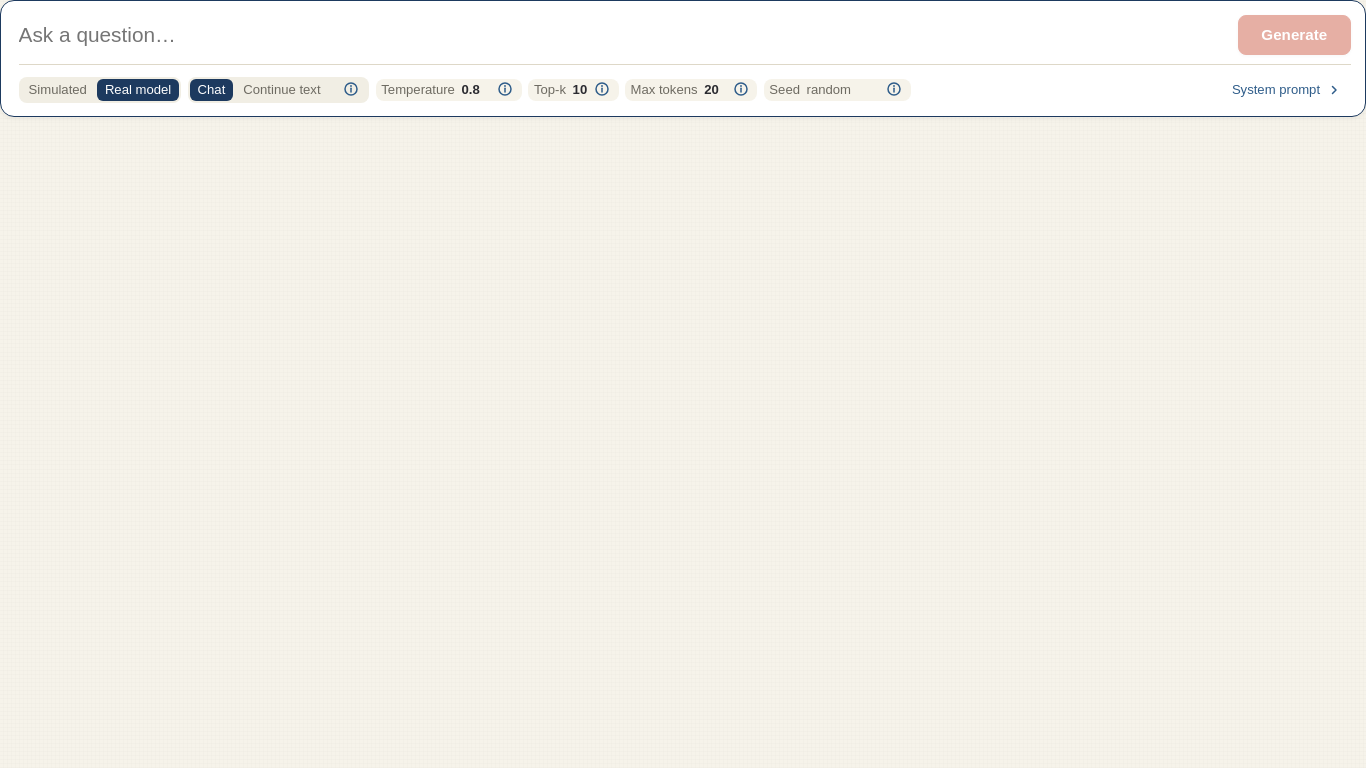
the format switch and the system line exist only with the real model
Click the button with test id "toggle-system" at (1287, 90), box [1224,74,1351,106]
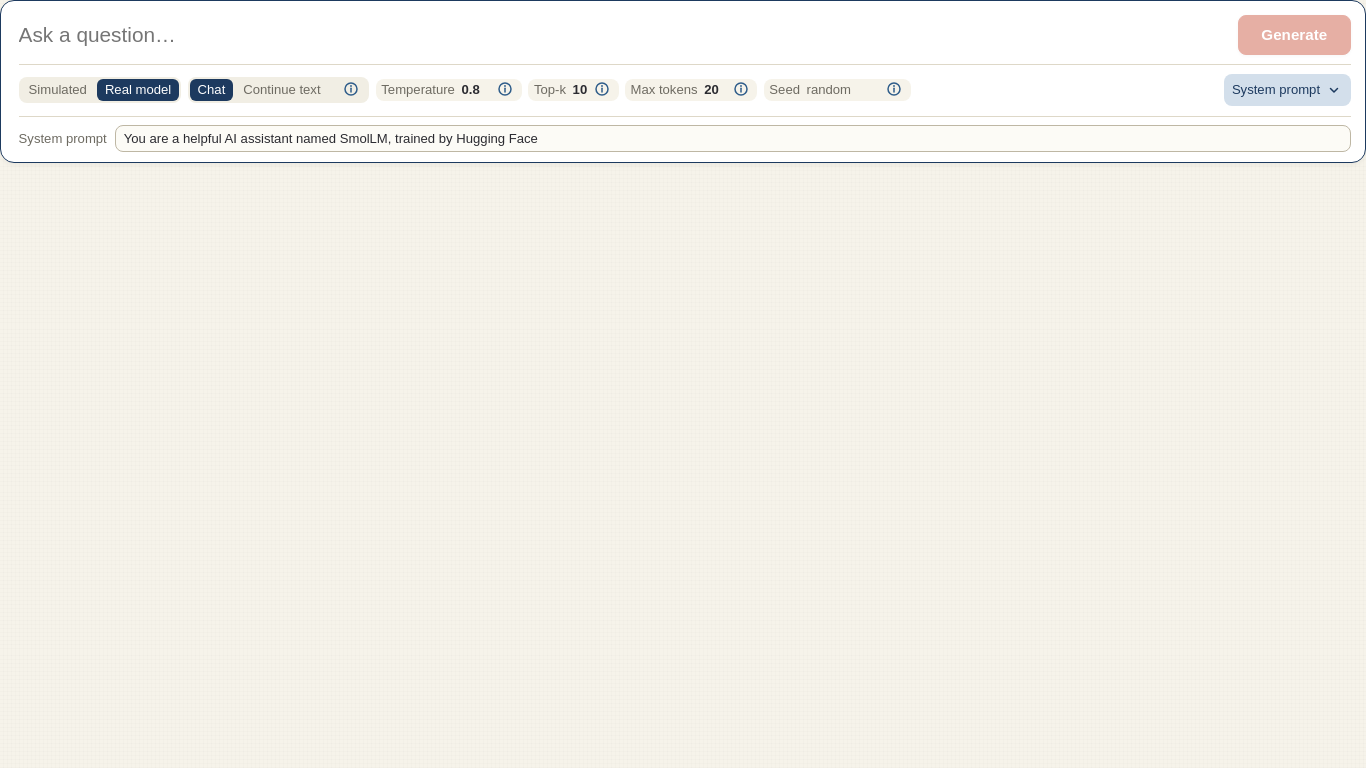
Expected: the field with test id "system-input" holds "You are a helpful AI assistant named SmolLM, trained by Hugging Face", [115,125,1351,152]
Click the button with test id "format-text" at (282, 90), box [235,79,329,101]
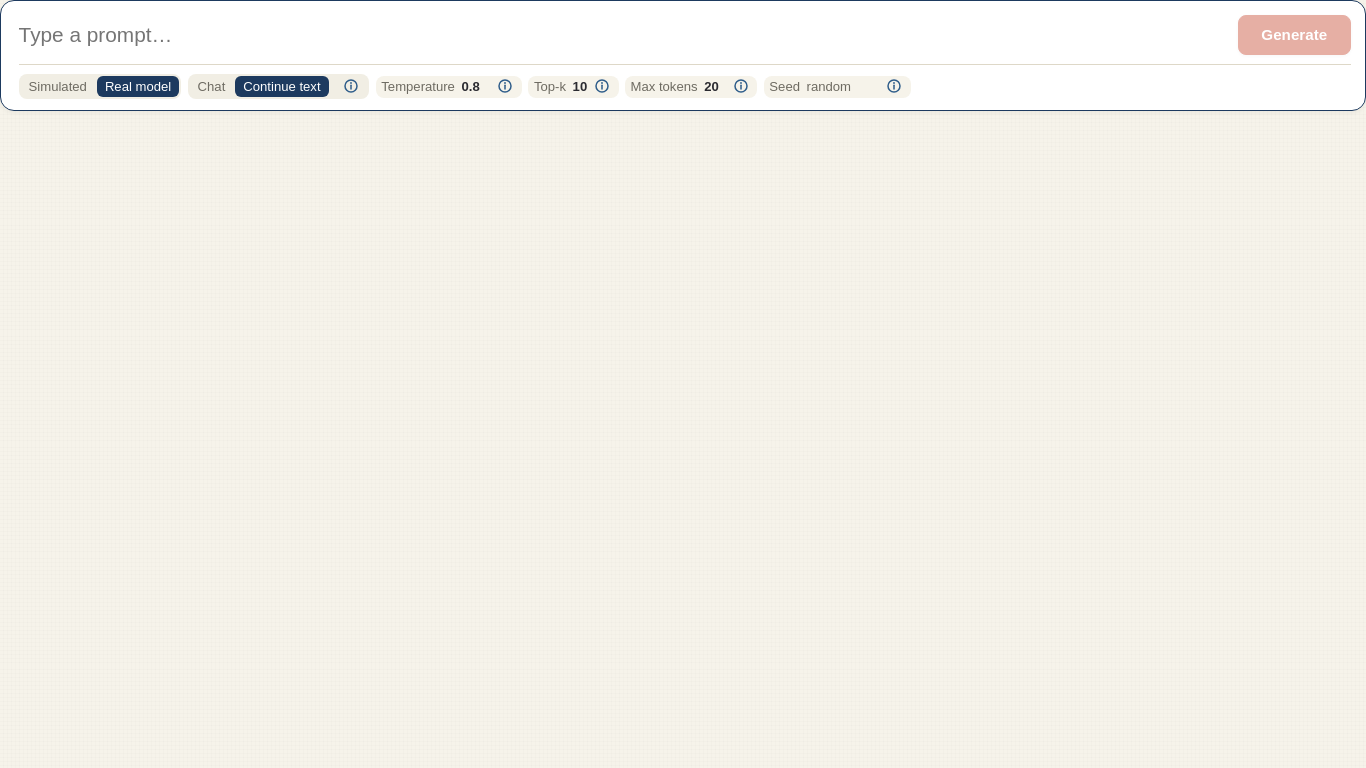
Expected: the label with test id "system-input" is gone
